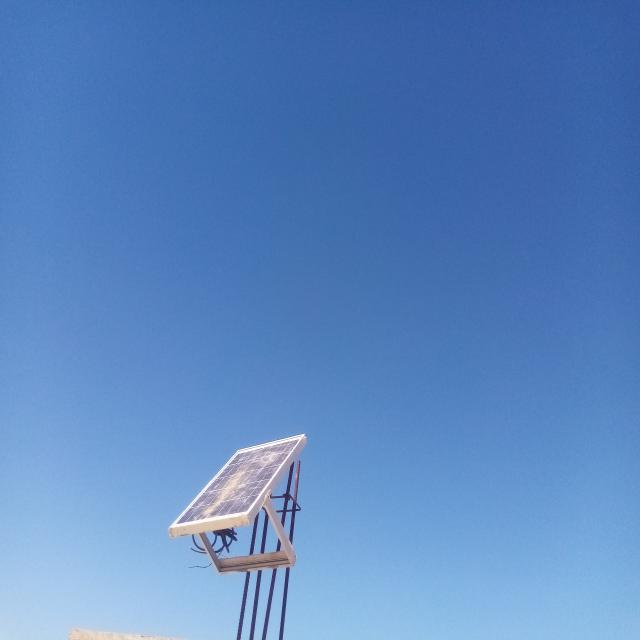faulty: (168, 433, 305, 529)
